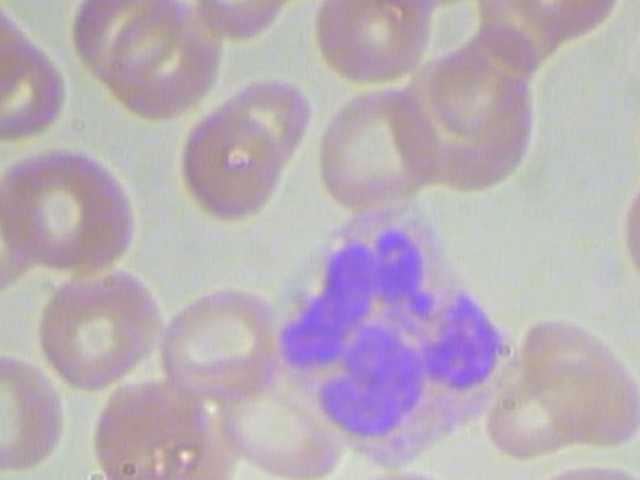RBC: (311, 81, 448, 225), (164, 105, 298, 235), (35, 260, 170, 389), (521, 312, 640, 455), (160, 277, 279, 404), (311, 0, 444, 88), (616, 164, 640, 298), (631, 85, 640, 199), (632, 0, 640, 115)
WBC: (261, 201, 529, 478)
